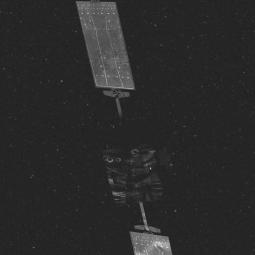smart_1: (80, 54, 188, 249)
